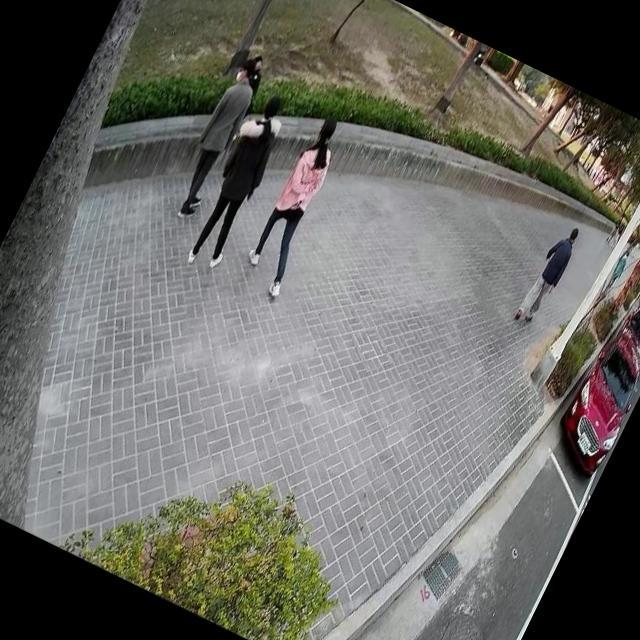person: (230, 101, 364, 305), (174, 82, 300, 278), (162, 50, 272, 227), (505, 212, 588, 336), (228, 46, 278, 115), (603, 244, 635, 293), (606, 213, 630, 250), (604, 210, 626, 244)
